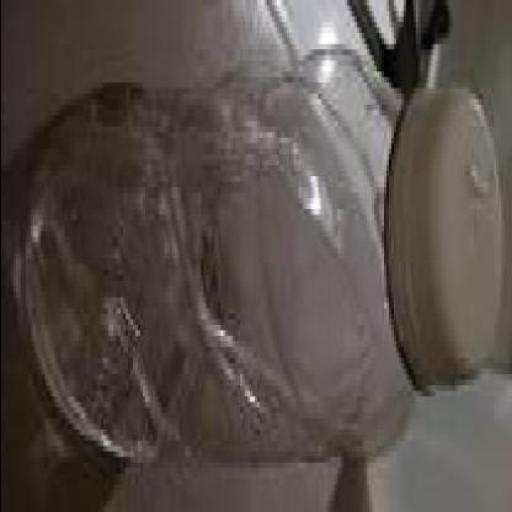plastic: (22, 44, 502, 457), (388, 77, 507, 391)
